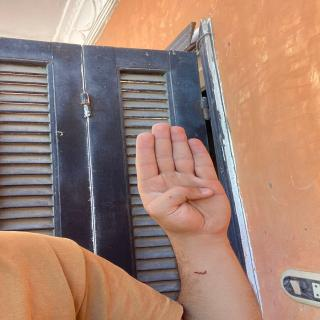KAAF: (118, 116, 230, 229)
